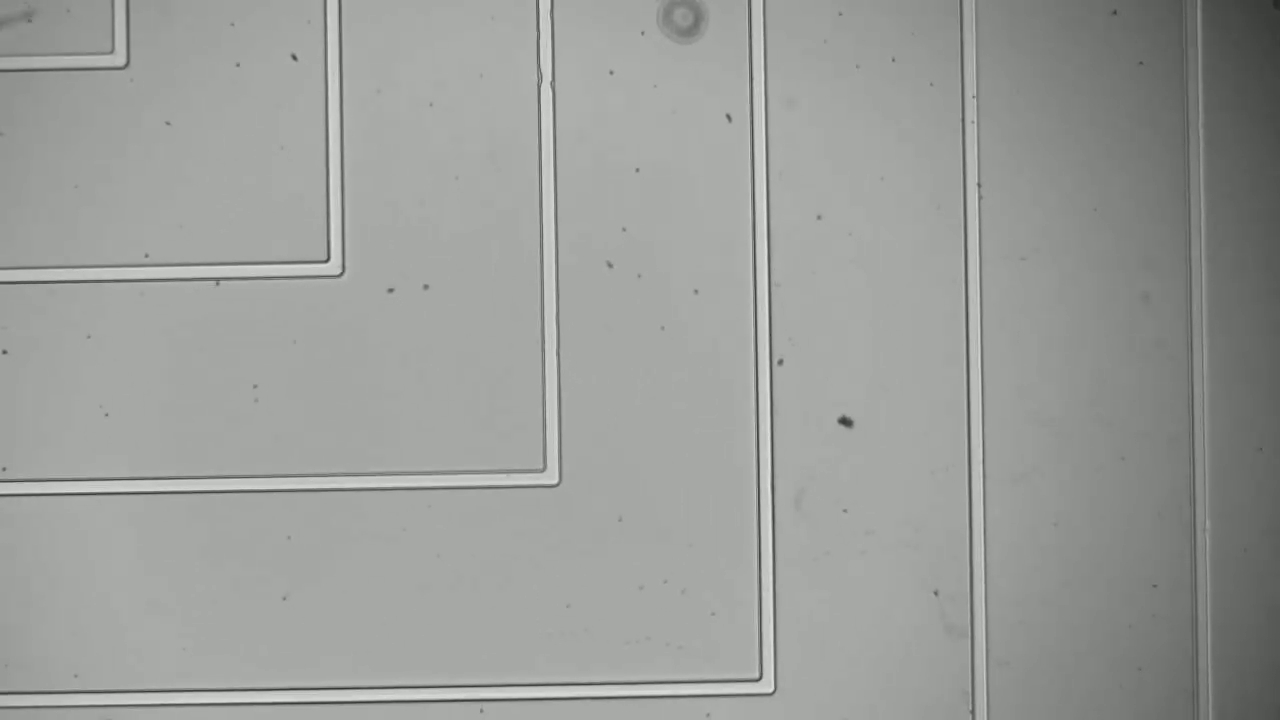edge_bite: (529, 59, 566, 95)
